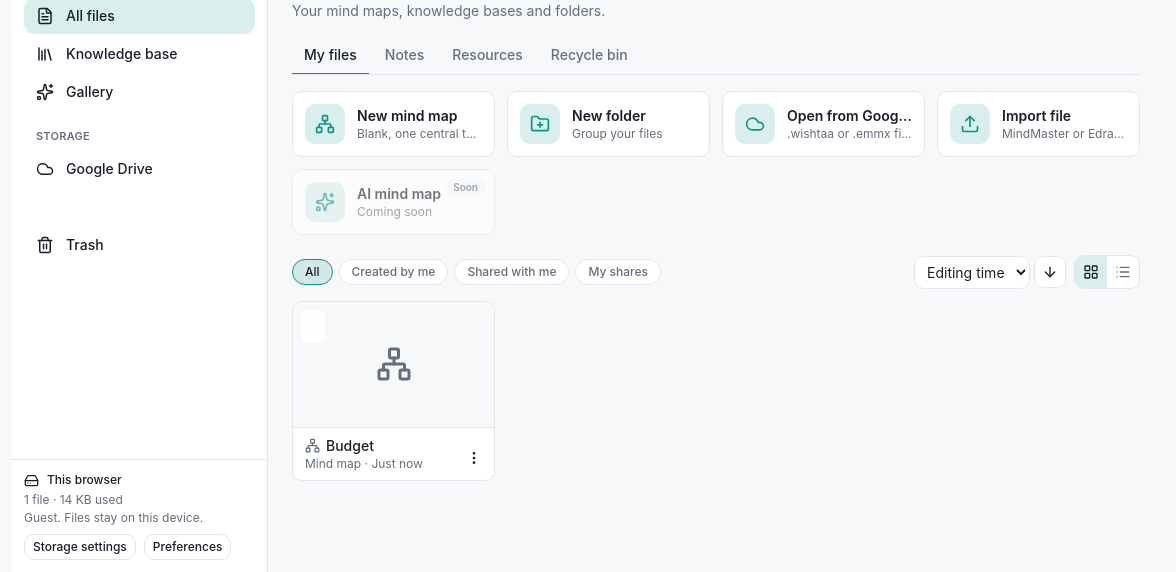
Scenario: Drive in the file screens › moves a file to Drive from its menu and marks it with a Drive badge
Click the button named "More actions for Budget": (474, 458) [458,442,490,474]
(page scrolled)
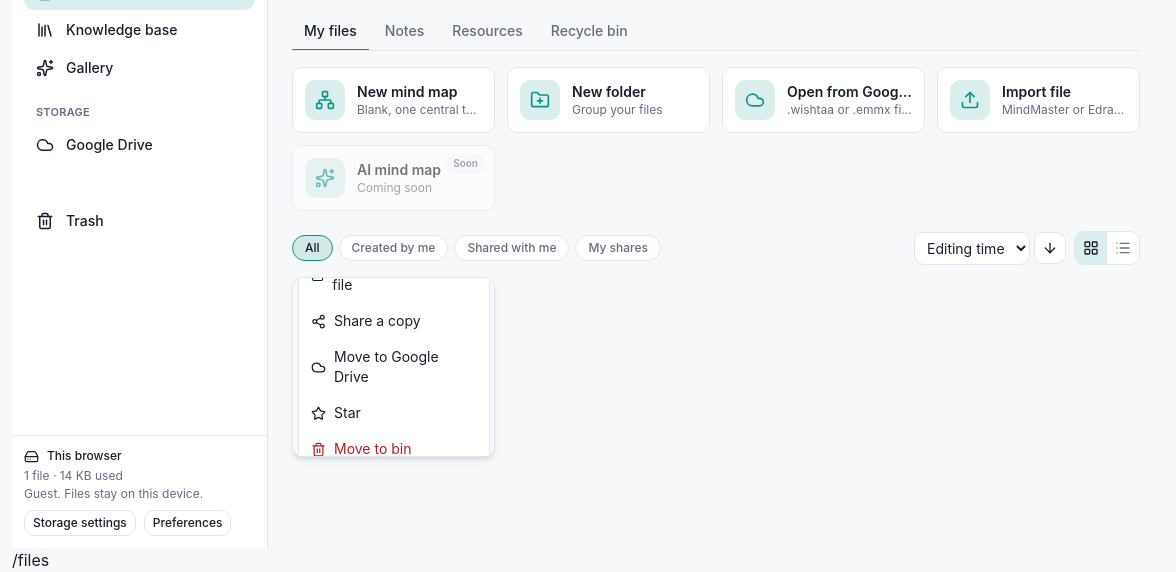
Click the menu item "Move to Google Drive": (394, 367) [299,339,489,395]
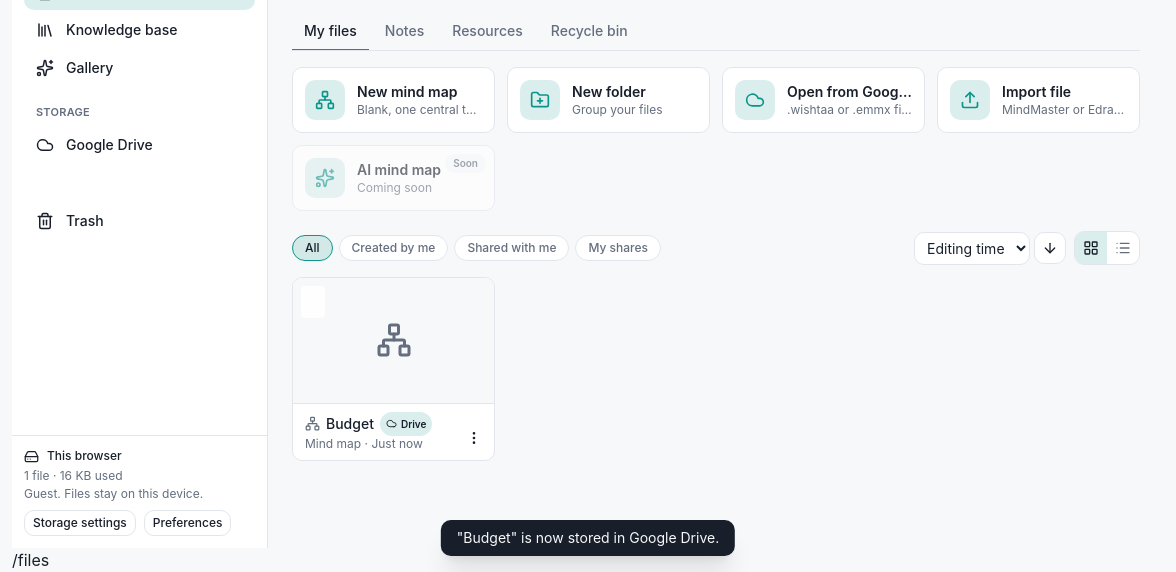
Check: the element titled "Stored in Google Drive" is shown, box [380,412,432,436]
Click the button named "More actions for Budget": (474, 438) [458,422,490,454]
(page scrolled)
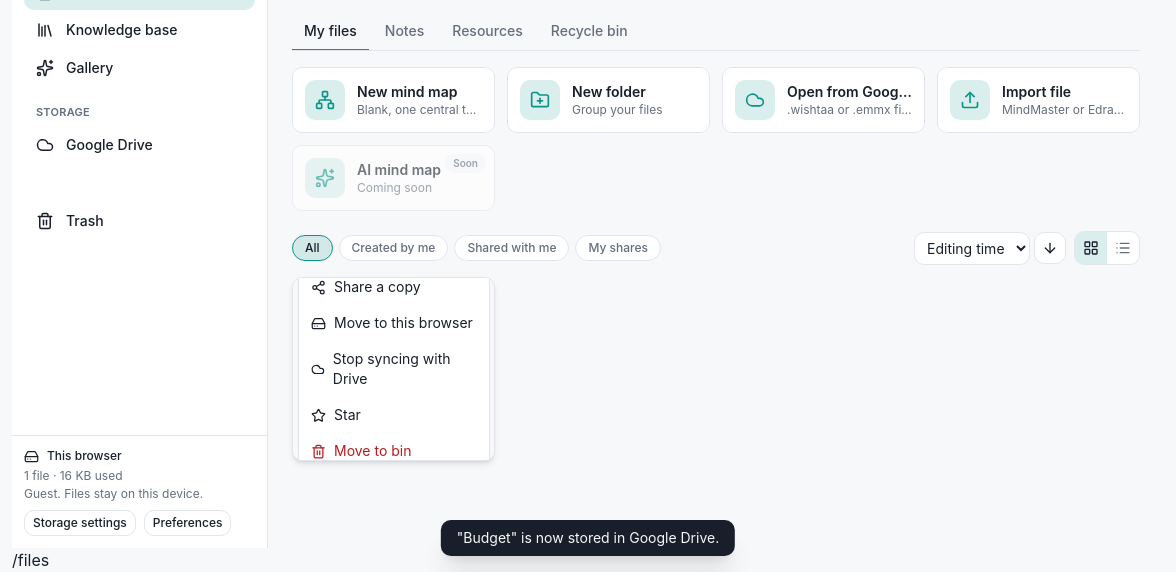
Check: the menu item "Move to this browser" is shown, box [299,305,489,341]
Check: the menu item "Stop syncing with Drive" is shown, box [299,341,489,397]
